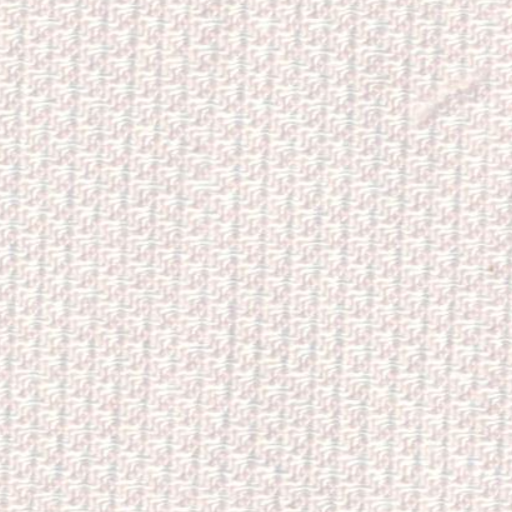DuanSha: (402, 52, 488, 134)
